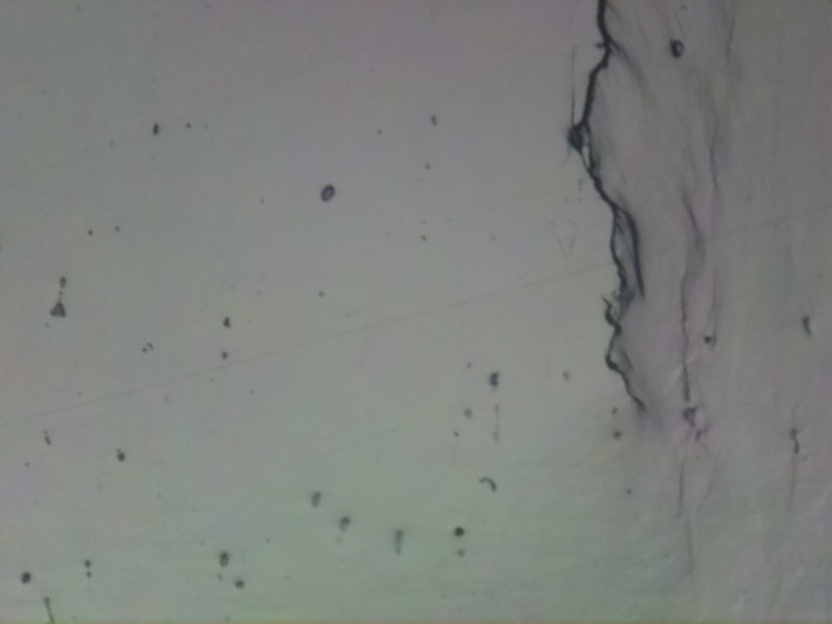crack: (565, 0, 647, 412)
